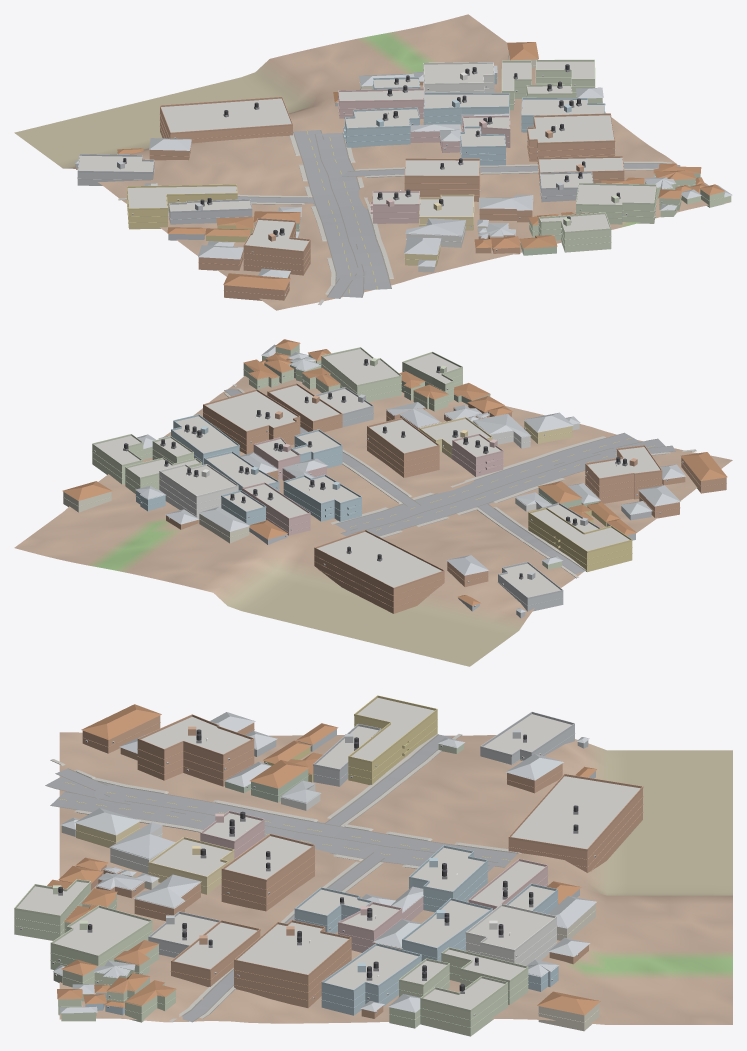
The picture shows the model from 3 angles, top to bottom: view 1: azimuth 30°, elevation 25°; view 2: azimuth 150°, elevation 25°; view 3: azimuth 270°, elevation 25°; orthographic projection. The views are drawn at different scales.
Visible parts, largest first — view 1: Buildings-col, Terrain-col, Details, Roads-col, Sidewalks-col; view 2: Buildings-col, Terrain-col, Details, Roads-col, Sidewalks-col; view 3: Buildings-col, Terrain-col, Details, Roads-col, Sidewalks-col.
Boxes of the visible parts, bbox=[...] form: Buildings-col: bbox=[75, 42, 732, 300]; Terrain-col: bbox=[14, 14, 729, 310]; Details: bbox=[77, 49, 724, 296]; Roads-col: bbox=[126, 130, 680, 298]; Sidewalks-col: bbox=[118, 131, 671, 305]; Buildings-col: bbox=[62, 339, 727, 618]; Terrain-col: bbox=[14, 376, 732, 666]; Details: bbox=[63, 347, 726, 608]; Roads-col: bbox=[224, 388, 675, 573]; Sidewalks-col: bbox=[224, 384, 696, 578]; Buildings-col: bbox=[14, 698, 642, 1036]; Terrain-col: bbox=[59, 732, 732, 1024]; Details: bbox=[14, 695, 643, 1028]; Roads-col: bbox=[45, 734, 517, 1022]; Sidewalks-col: bbox=[50, 734, 521, 1021].
Size of the model in its own units: 283 by 22.92 by 273.
